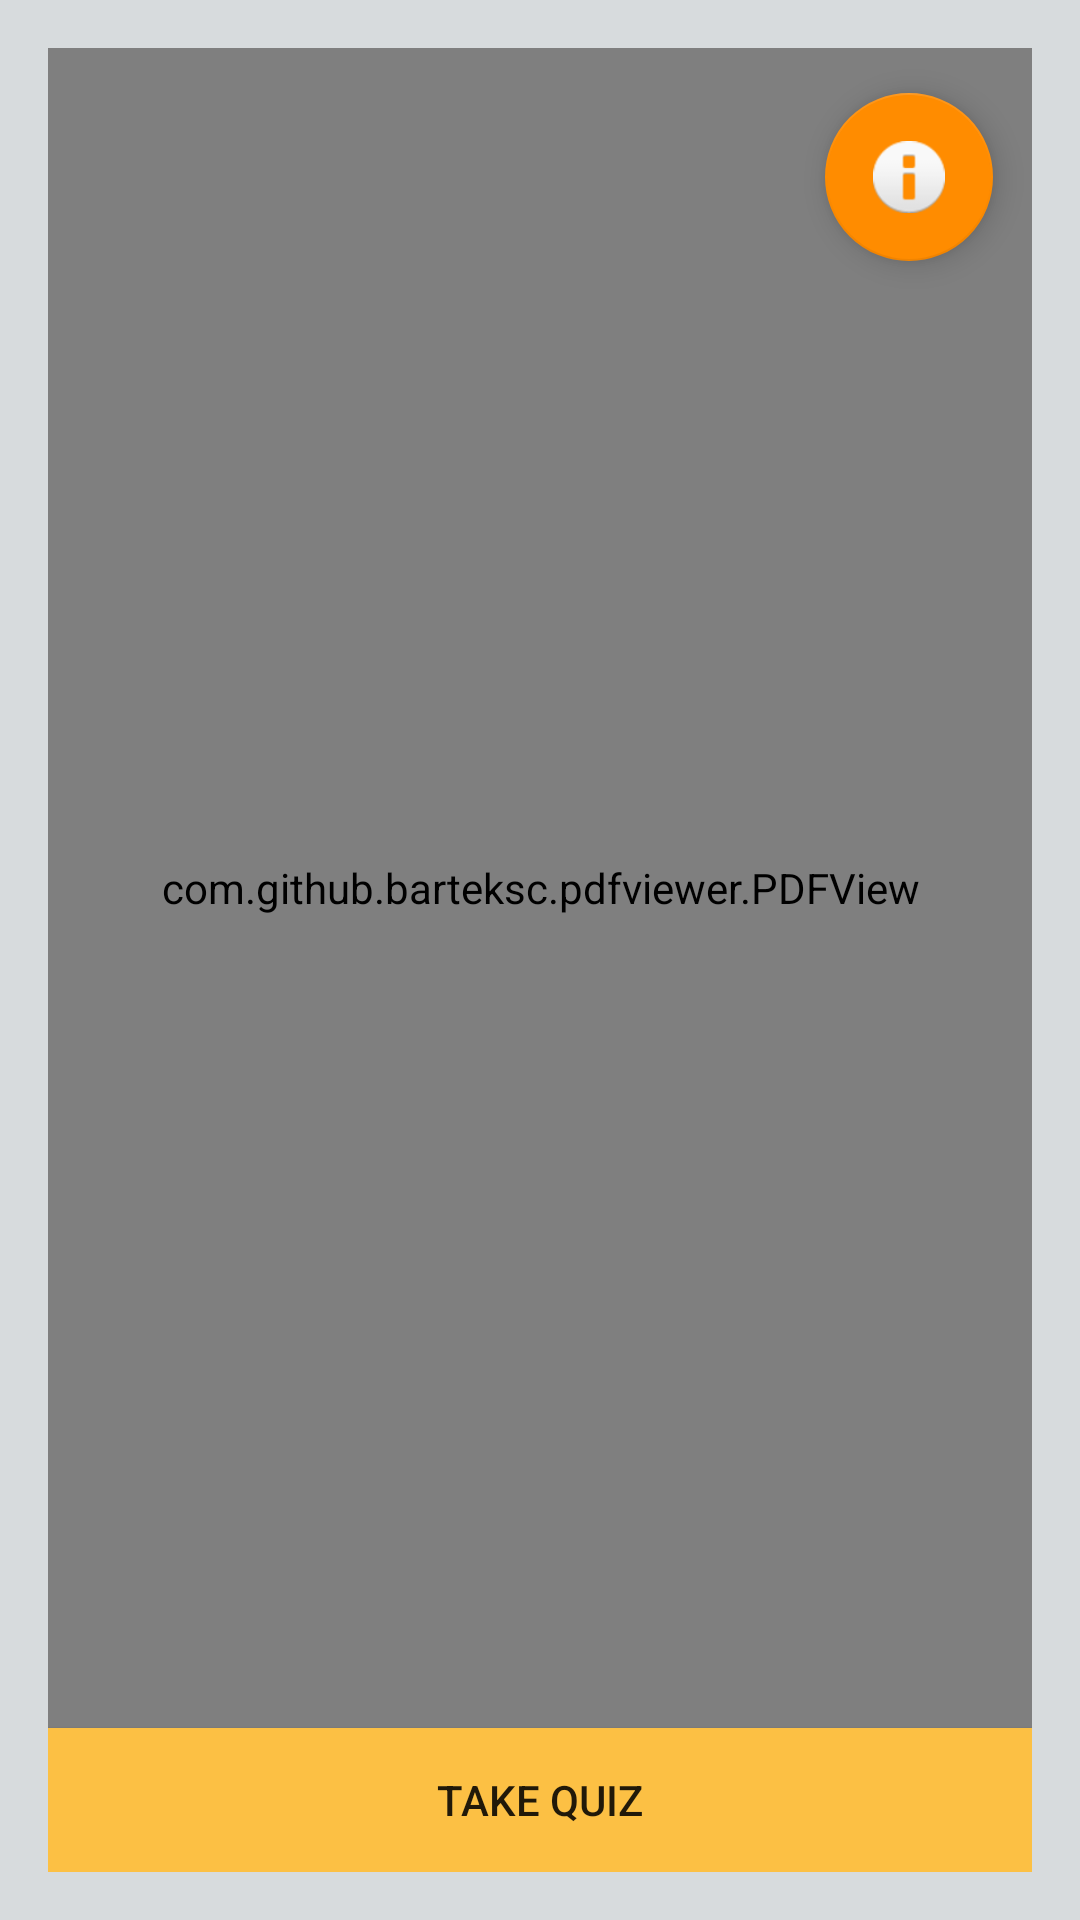

Icon click points for this 1080x1920 phone screenshot, format (x=x, y=y):
info: (x=909, y=177)
